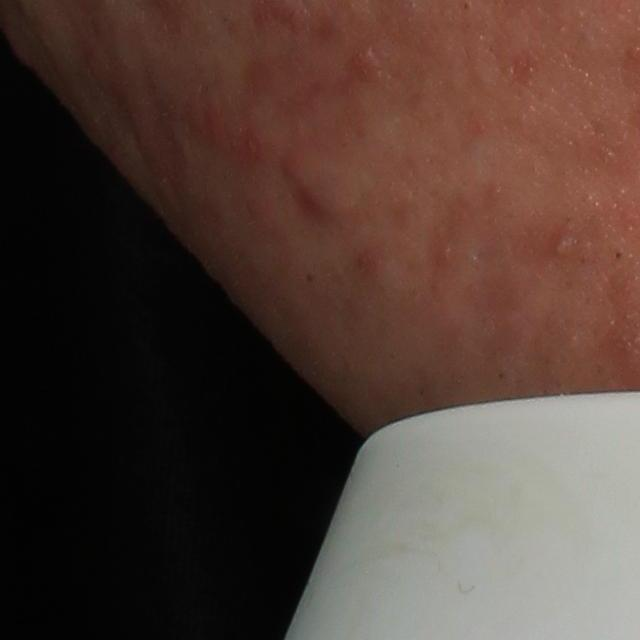papule: (287, 172, 343, 227), (350, 45, 378, 83)
